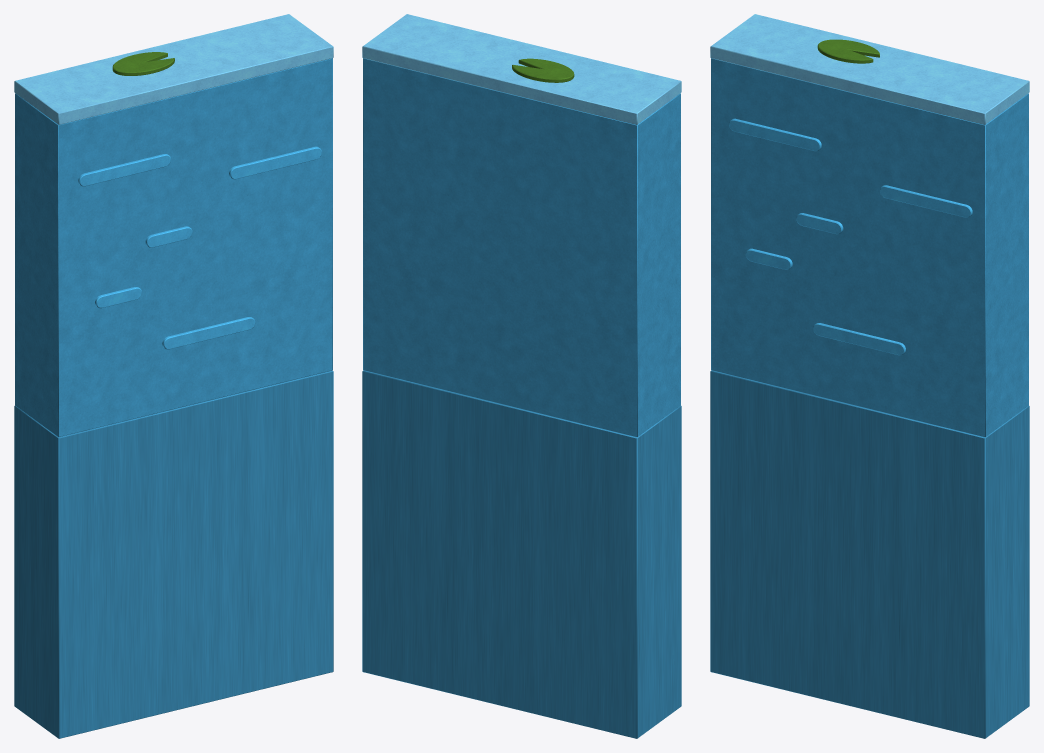
The model's file is water_level4.glb.
3 renders of one model, left to right at view 1: azimuth 30°, elevation 25°; view 2: azimuth 150°, elevation 25°; view 3: azimuth 330°, elevation 25°, orthographic.
Parts seen in each view (by area): view 1: water_L4_01; view 2: water_L4_01; view 3: water_L4_01.
Boxes of the visible parts, <box> form: water_L4_01: <box>14,14,333,738</box>; water_L4_01: <box>362,14,681,738</box>; water_L4_01: <box>710,14,1029,738</box>.
Bounding box in the file's own units: 3.59 × 7.86 × 1.04.
Materials: 5 (5 with a texture image).
